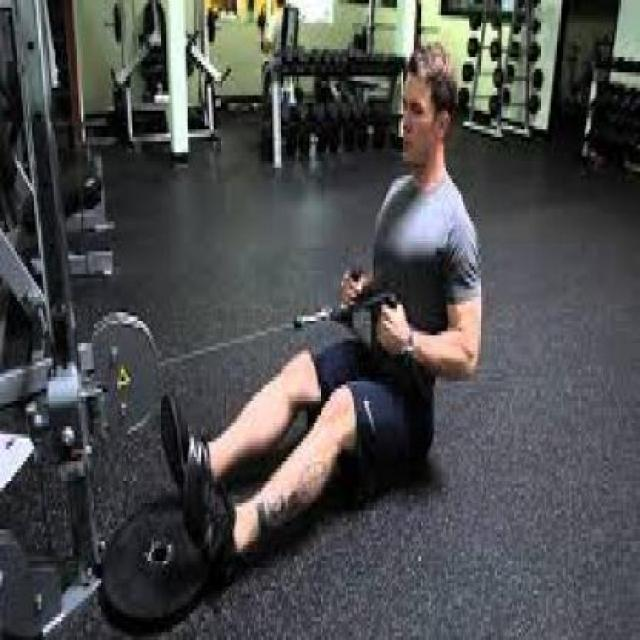Seated Cable Rows: (1, 0, 488, 640)
